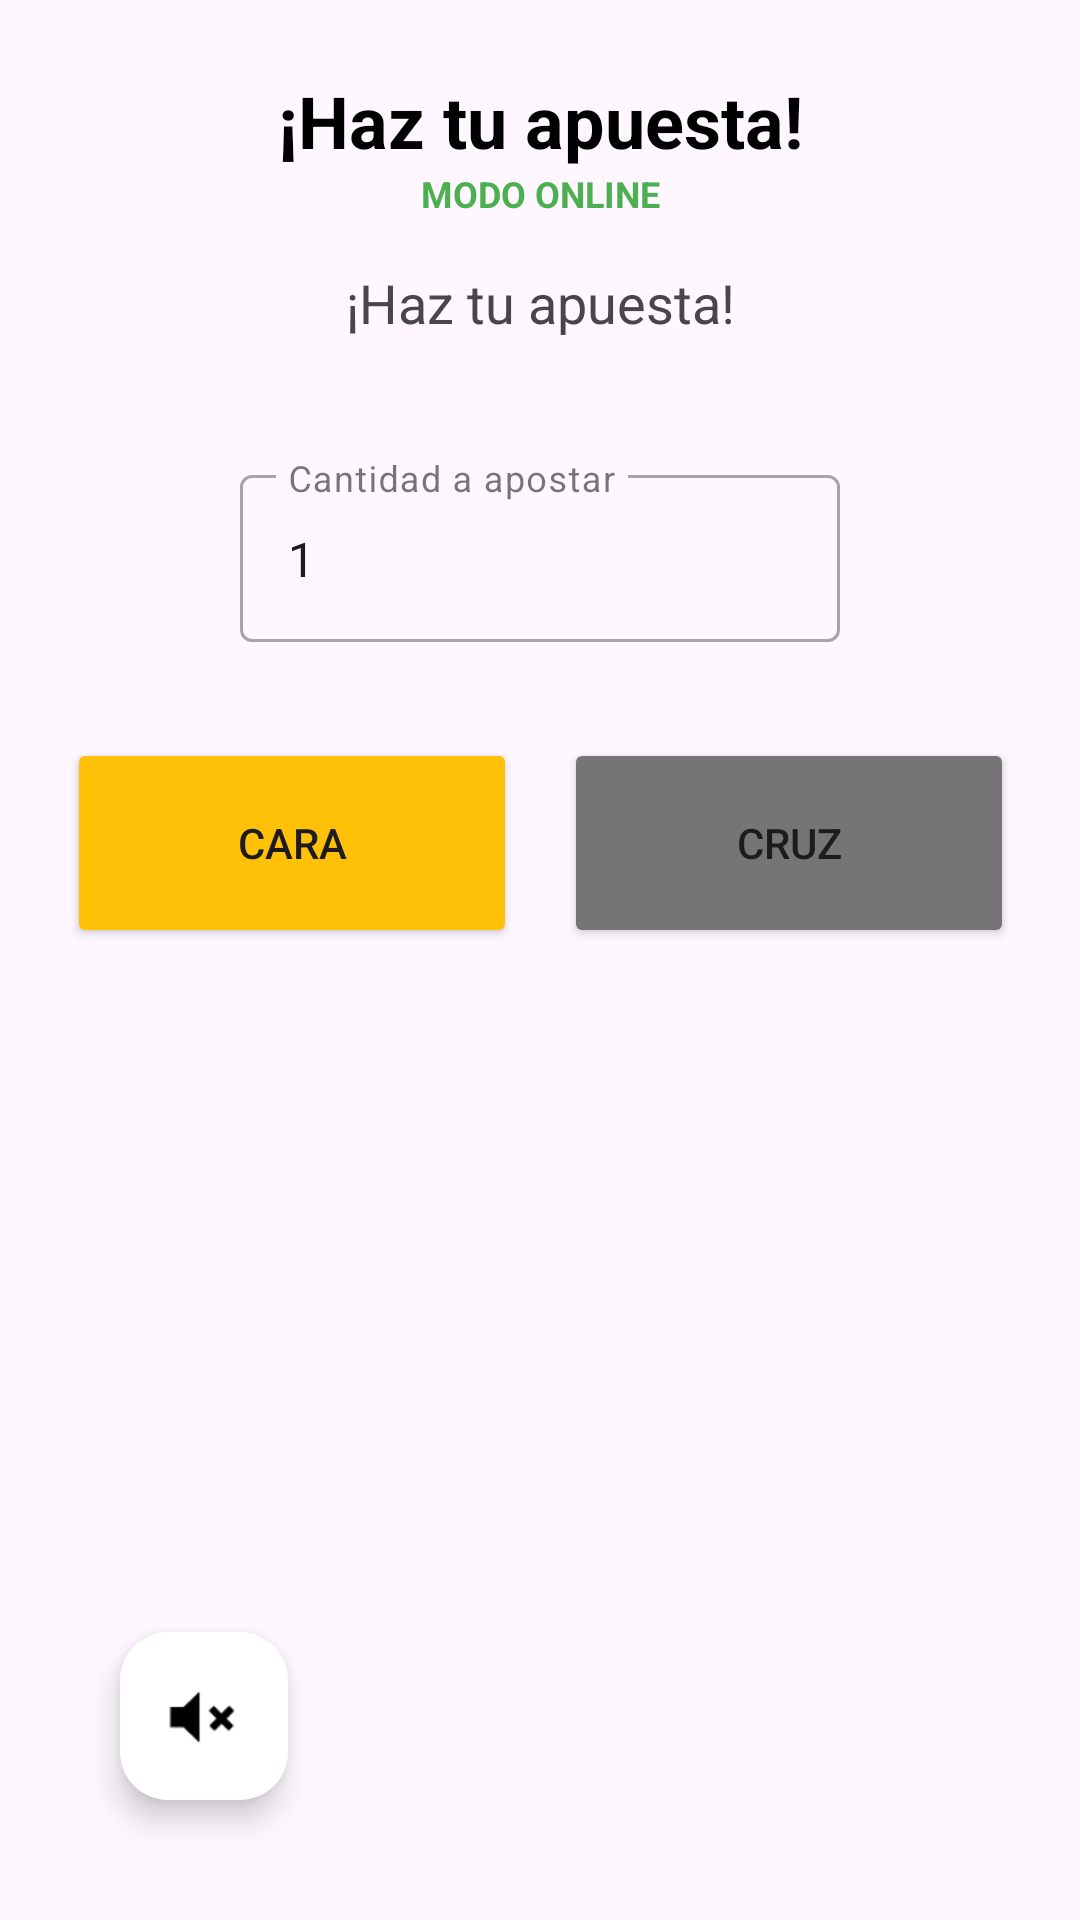

Named icons in this screenshot (1080w x 1920h) and their bounding boxes, (x1, y1, x2, y2):
Música: (120, 1632, 288, 1800)
